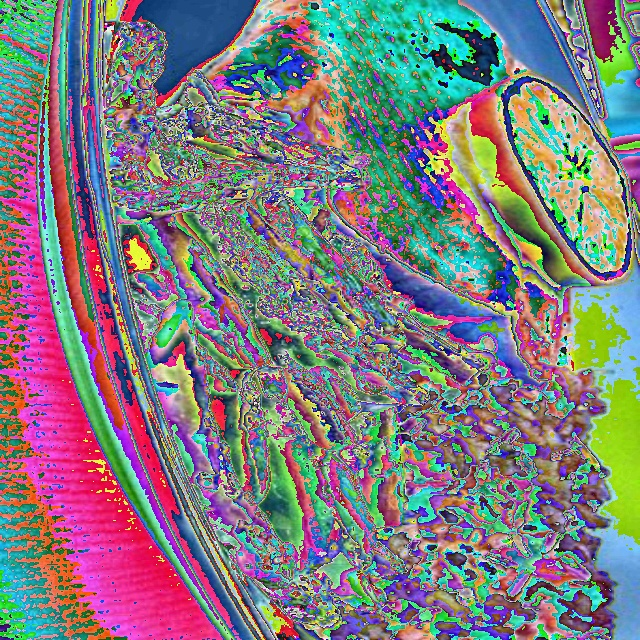background: (102, 0, 636, 640)
